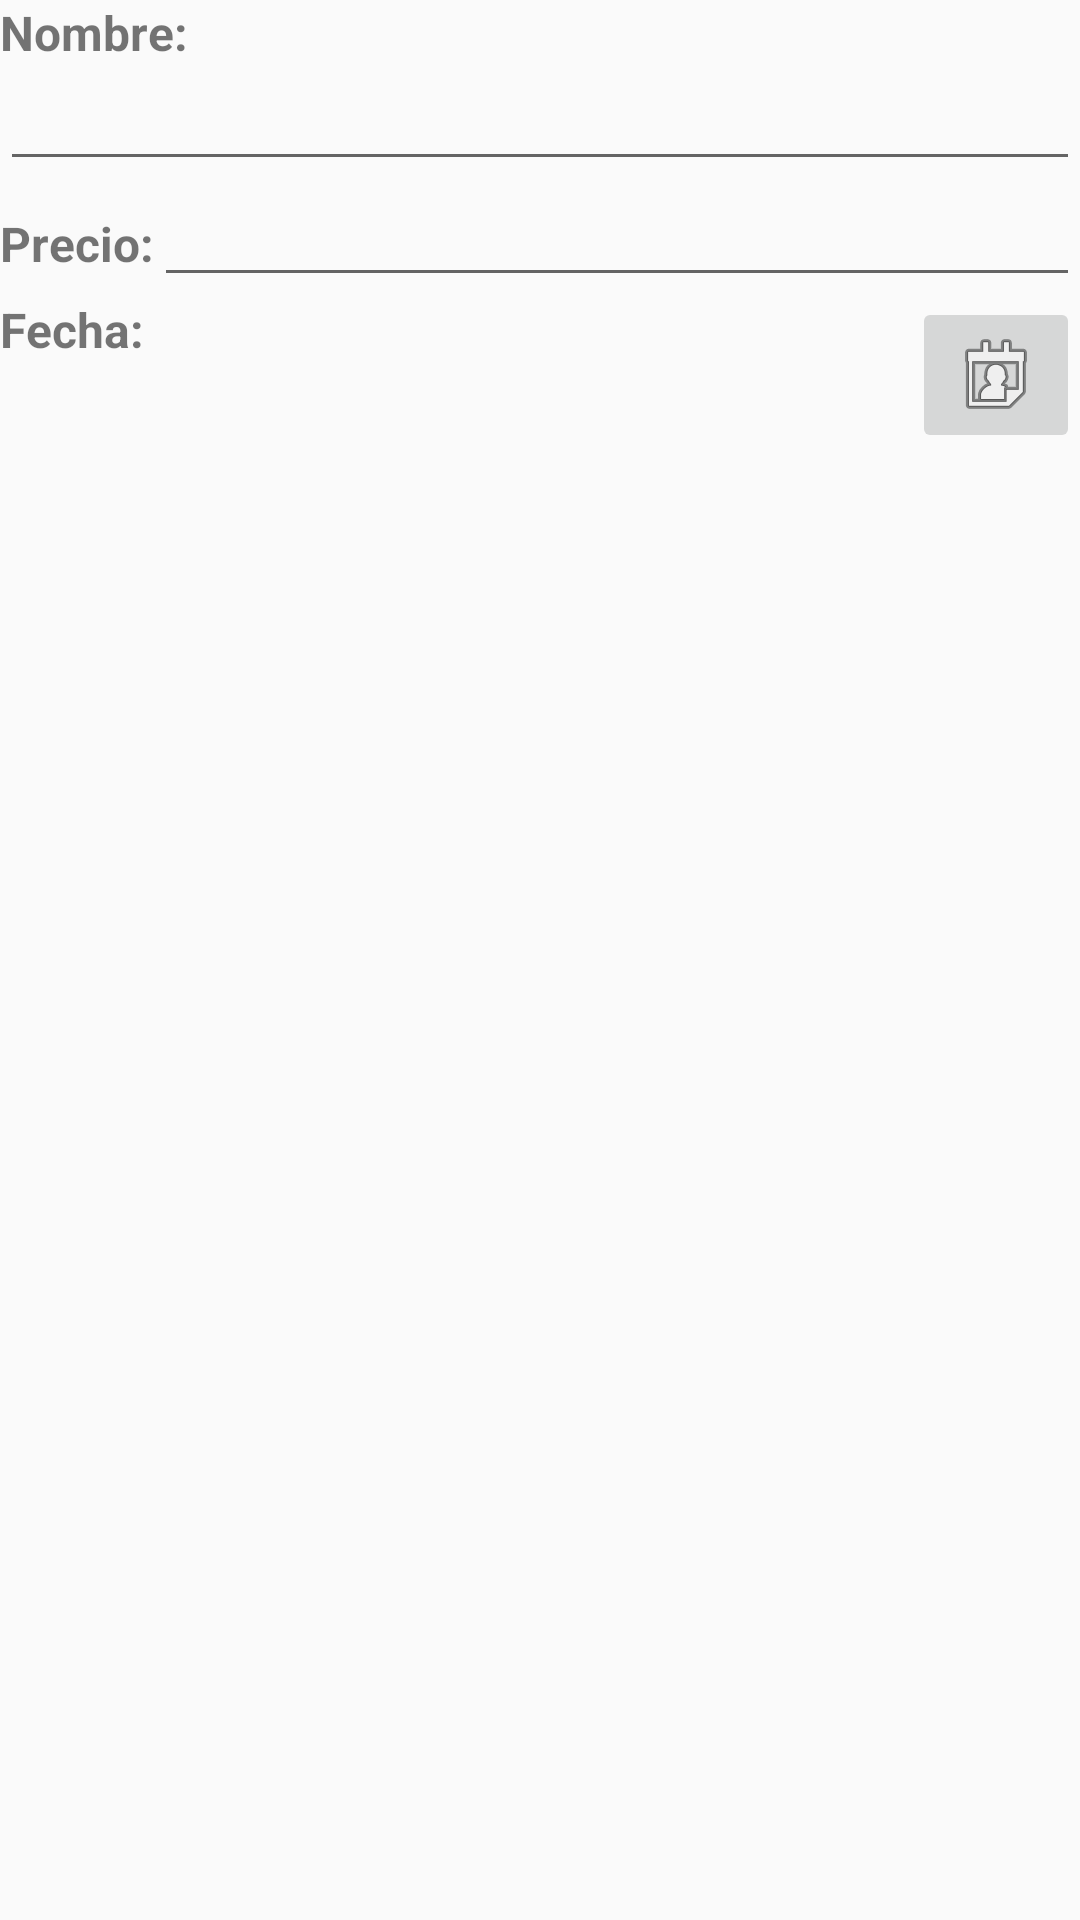

Icons on this 1080×1920 Android screen, each with the point to tap as point (x, y):
calendar: point (996, 375)
